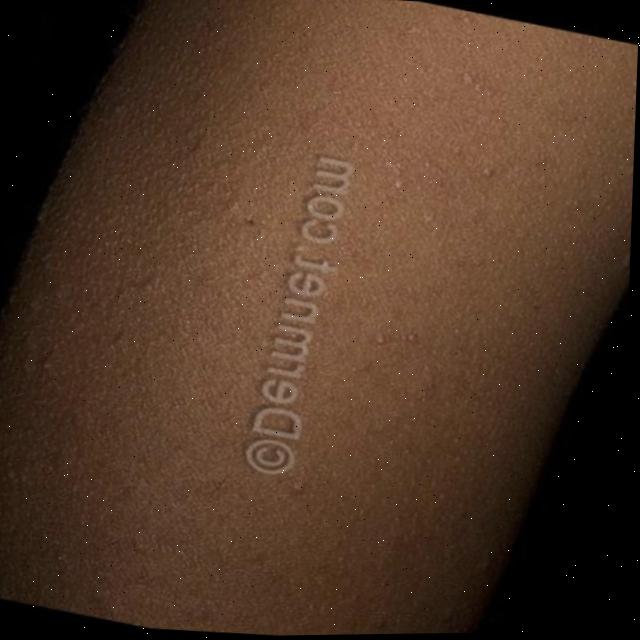Eczema: (3, 40, 568, 624)
